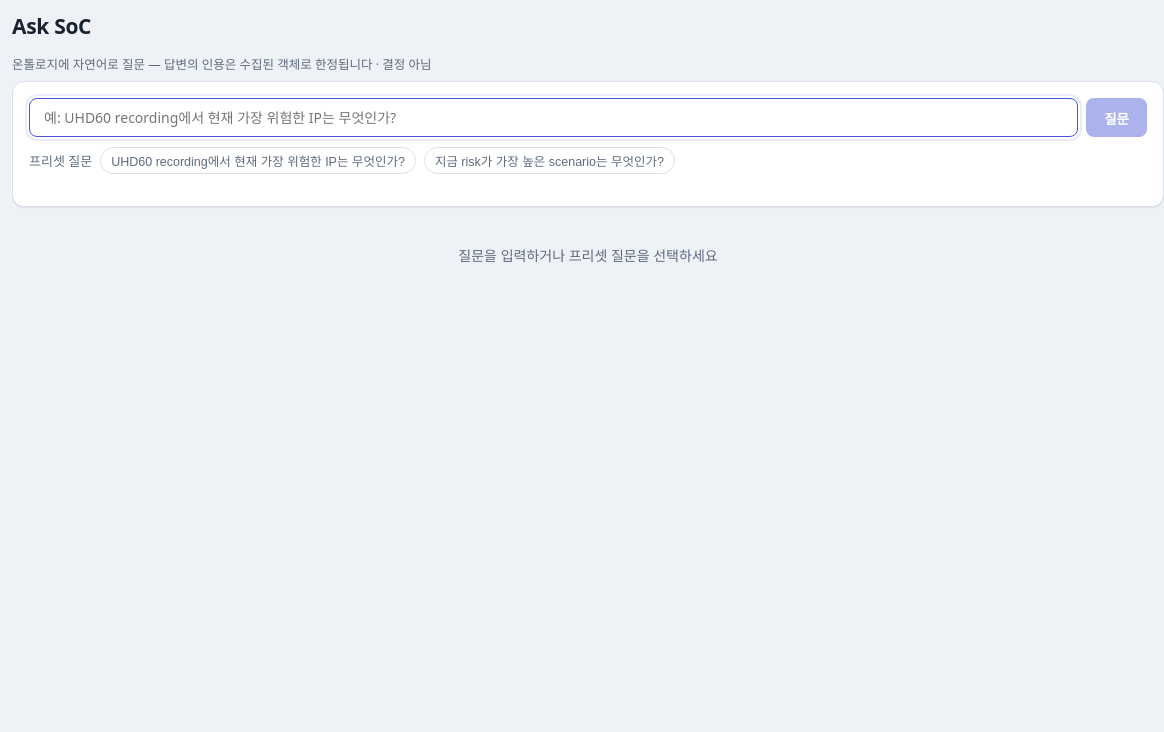
it: AskPage › 입력창 질의도 동작한다
Expected: the button "UHD60 recording에서 현재 가장 위험한 IP는 무엇인가?" is shown, [100,147,416,174]
In the field with placeholder "예: UHD60 recording에서 현재 가장 위험한 IP는 무엇인가?": (554, 118) [29,98,1078,137], type "ISP power issue"
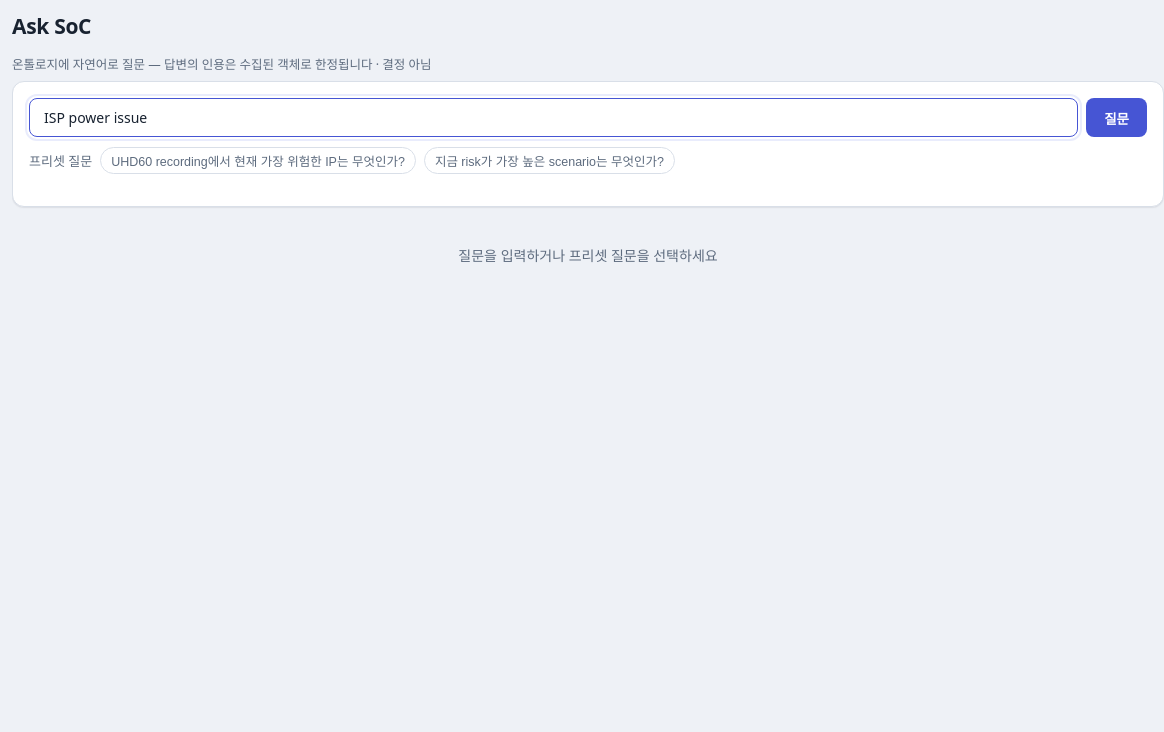
Click the button "질문": (1117, 118) [1086,98,1147,137]
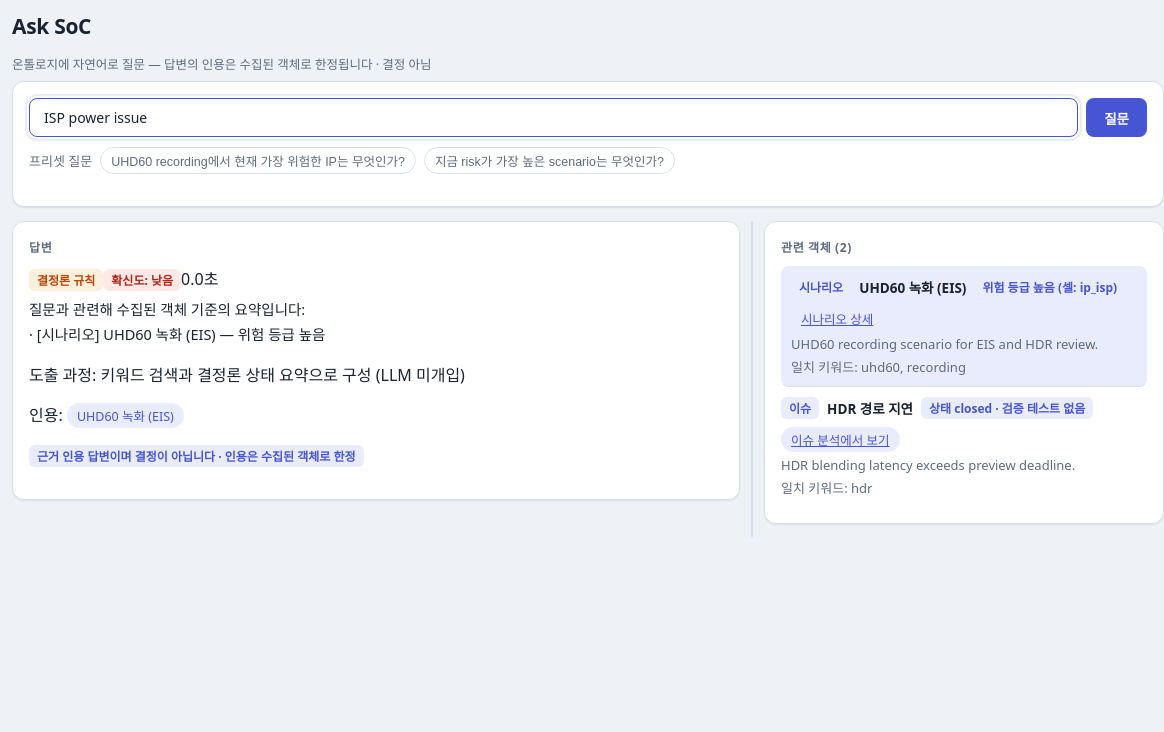
Result: the text "질문과 관련해 수집된 객체 기준의 요약입니다: · [시나리오] UHD60 녹화 (EIS) — 위험 등급 높음" is shown at [29,299,325,344]
